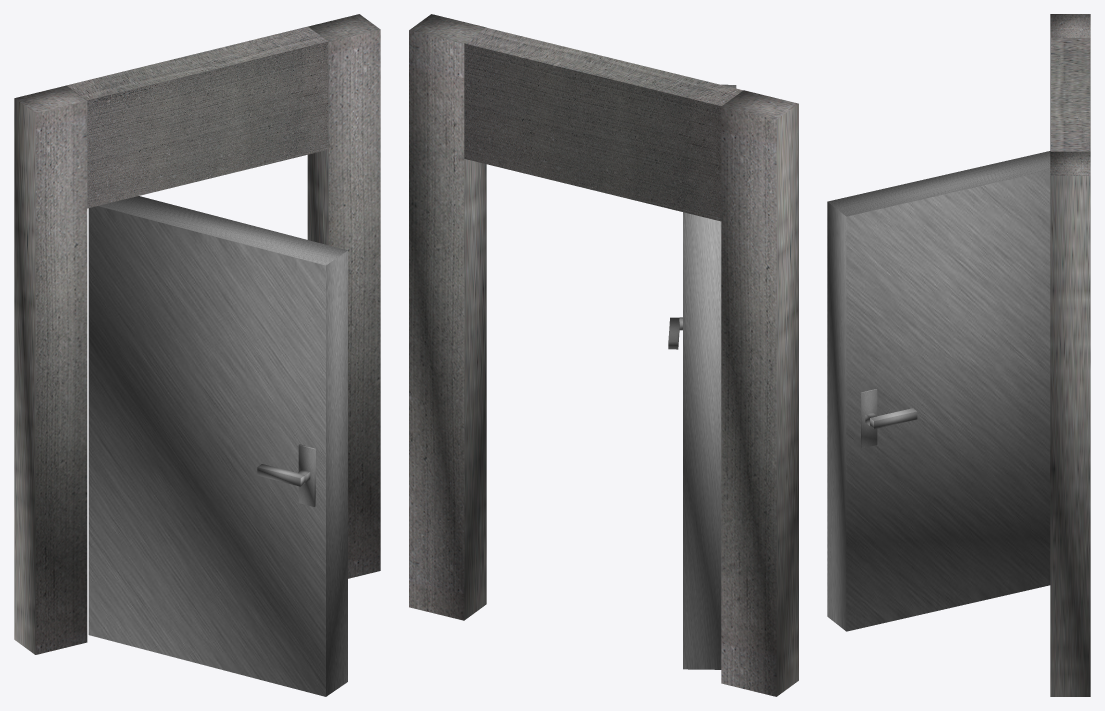
Rendered from metaldoor_000007.obj.
3 views of the same model, side by side, from view 1: azimuth 30°, elevation 25°; view 2: azimuth 150°, elevation 25°; view 3: azimuth 270°, elevation 25° (orthographic). The views are drawn at different scales.
Visible parts, largest first — view 1: Cube.004_Cube.005, Cube.006_Cube.007; view 2: Cube.006_Cube.007, Cube.004_Cube.005; view 3: Cube.004_Cube.005, Cube.006_Cube.007.
Boxes of the visible parts, <box> form: Cube.004_Cube.005: <box>88,196,347,696</box>; Cube.006_Cube.007: <box>14,14,380,654</box>; Cube.006_Cube.007: <box>409,14,798,696</box>; Cube.004_Cube.005: <box>668,84,736,669</box>; Cube.004_Cube.005: <box>827,150,1050,631</box>; Cube.006_Cube.007: <box>1050,14,1090,696</box>.
Bounding box in the file's own units: 2 × 3 × 1.37.
